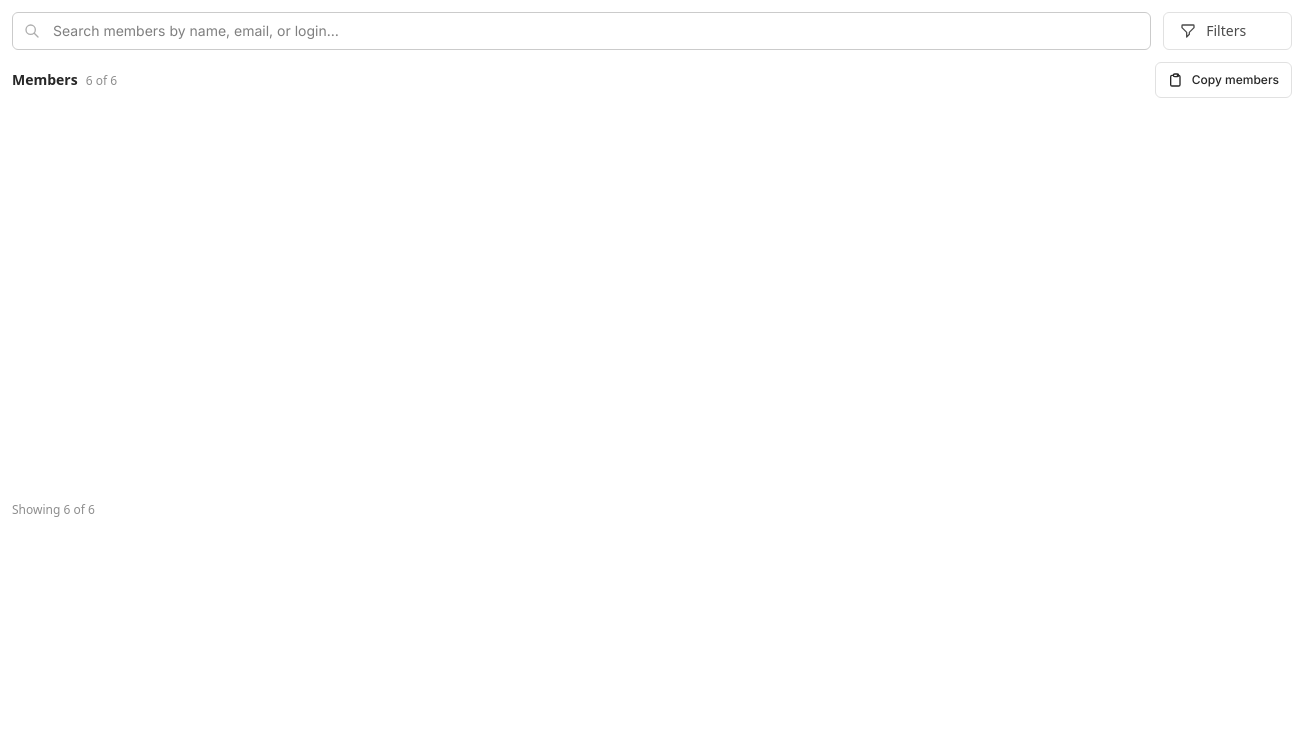
Test case: MemberExplorer filtering › removes one filter from its chip and leaves the others applied
Click the button "Filters": click(1228, 31) x1=1163 y1=12 x2=1292 y2=50
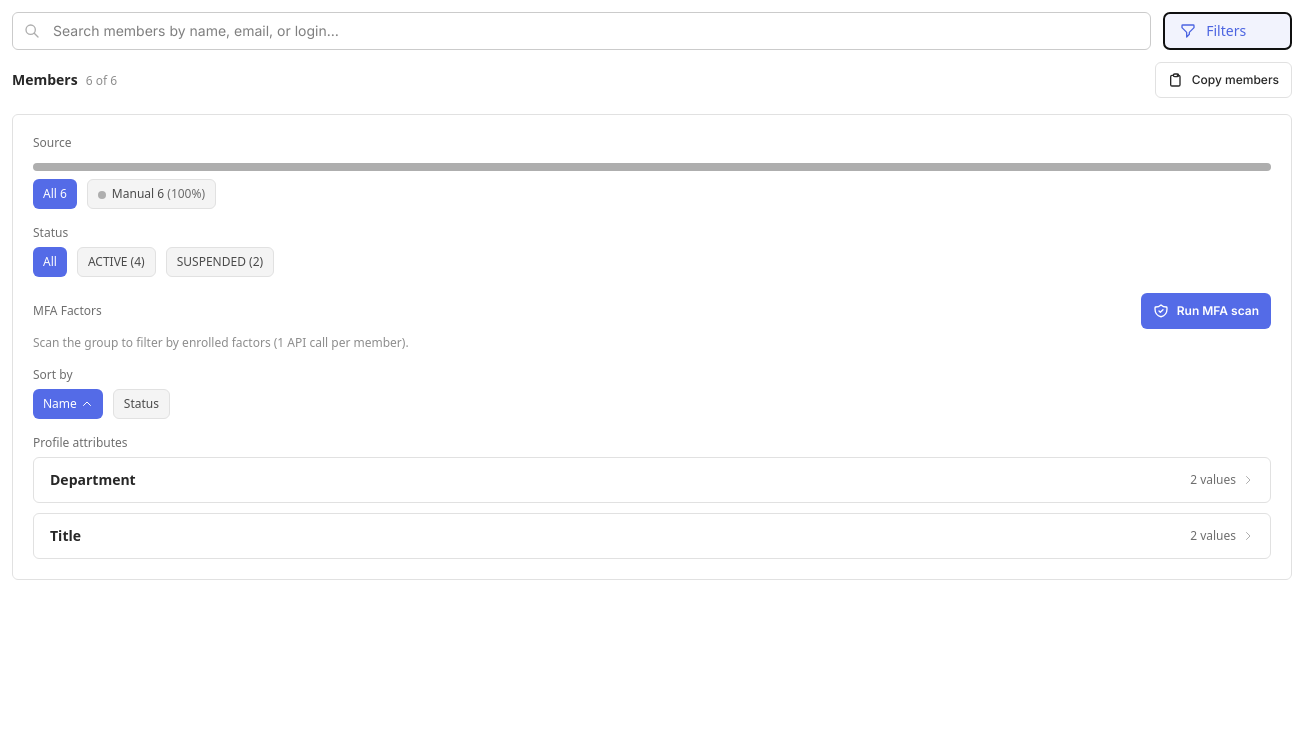
Click the button "Manual 6 (100%)": click(152, 194) x1=87 y1=179 x2=216 y2=209
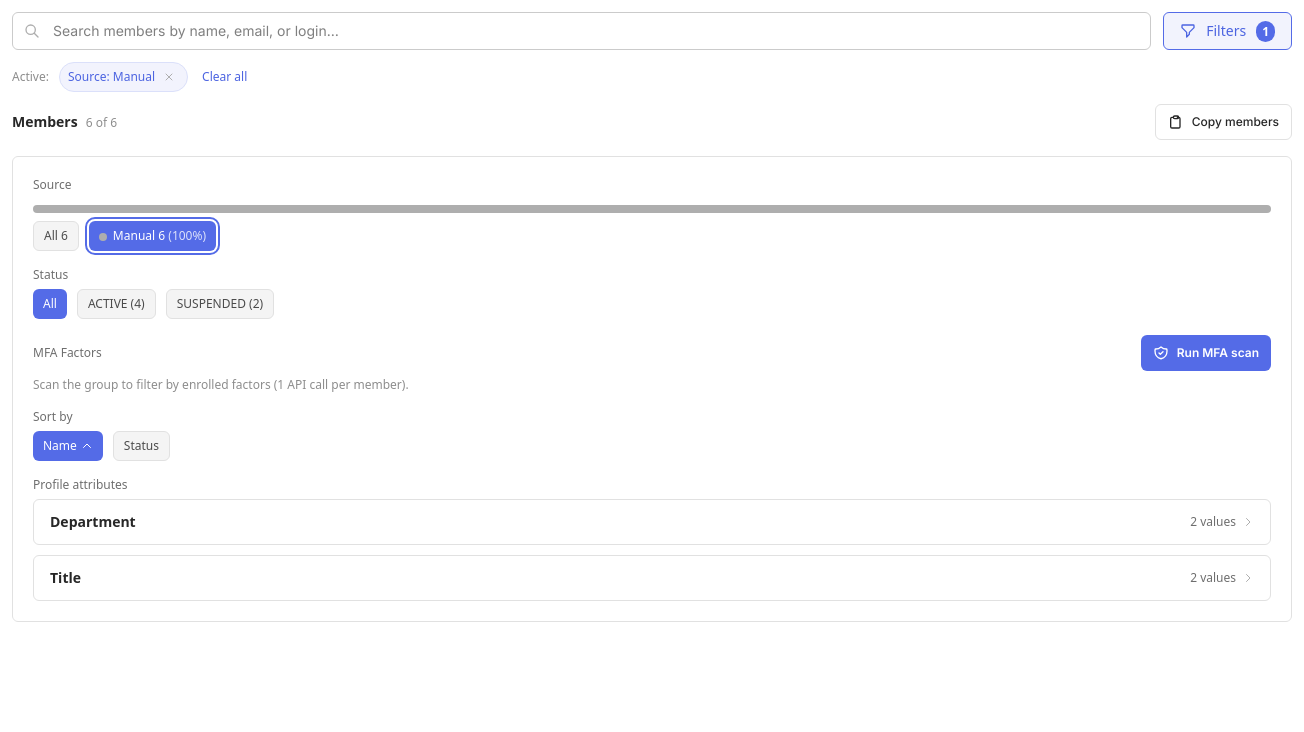
Click the button "SUSPENDED (2)": click(220, 304) x1=166 y1=289 x2=274 y2=319
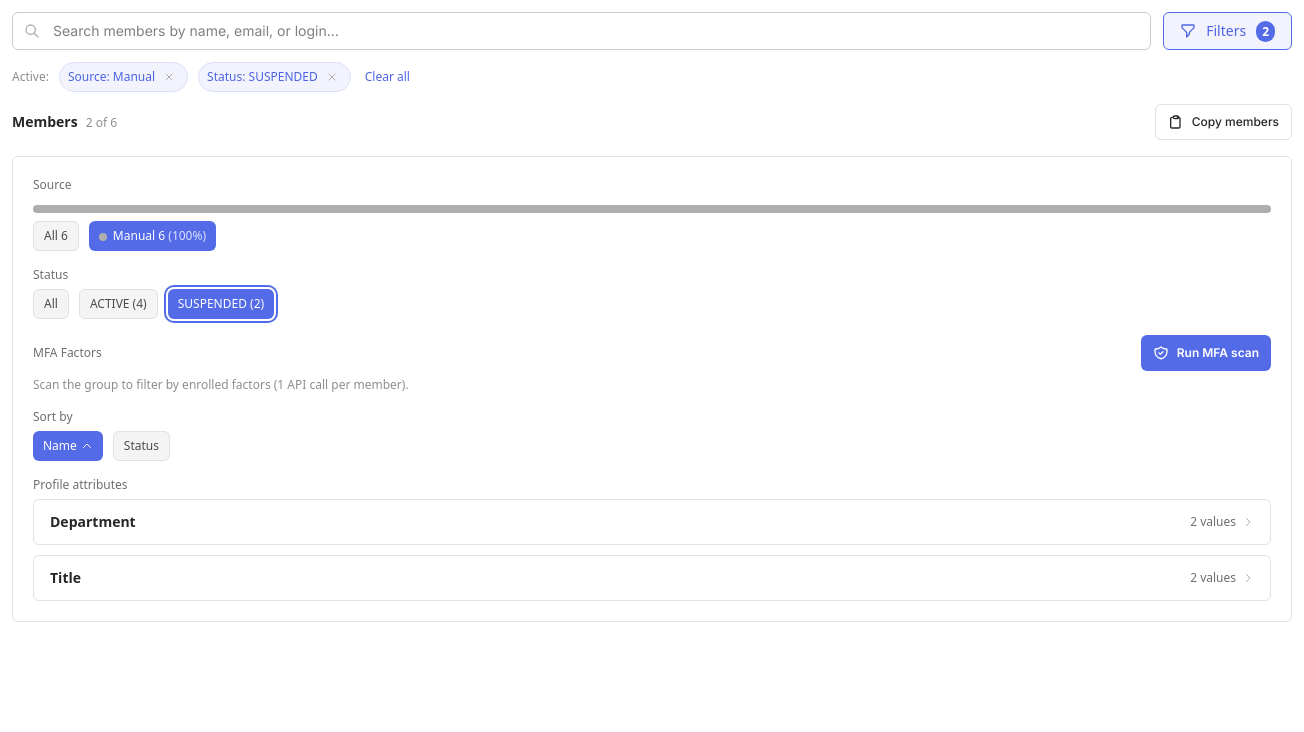
Result: the text "2 of 6" is shown at x1=86 y1=114 x2=117 y2=131
Click the button named "Remove Status: SUSPENDED filter": click(332, 77) x1=322 y1=67 x2=342 y2=87
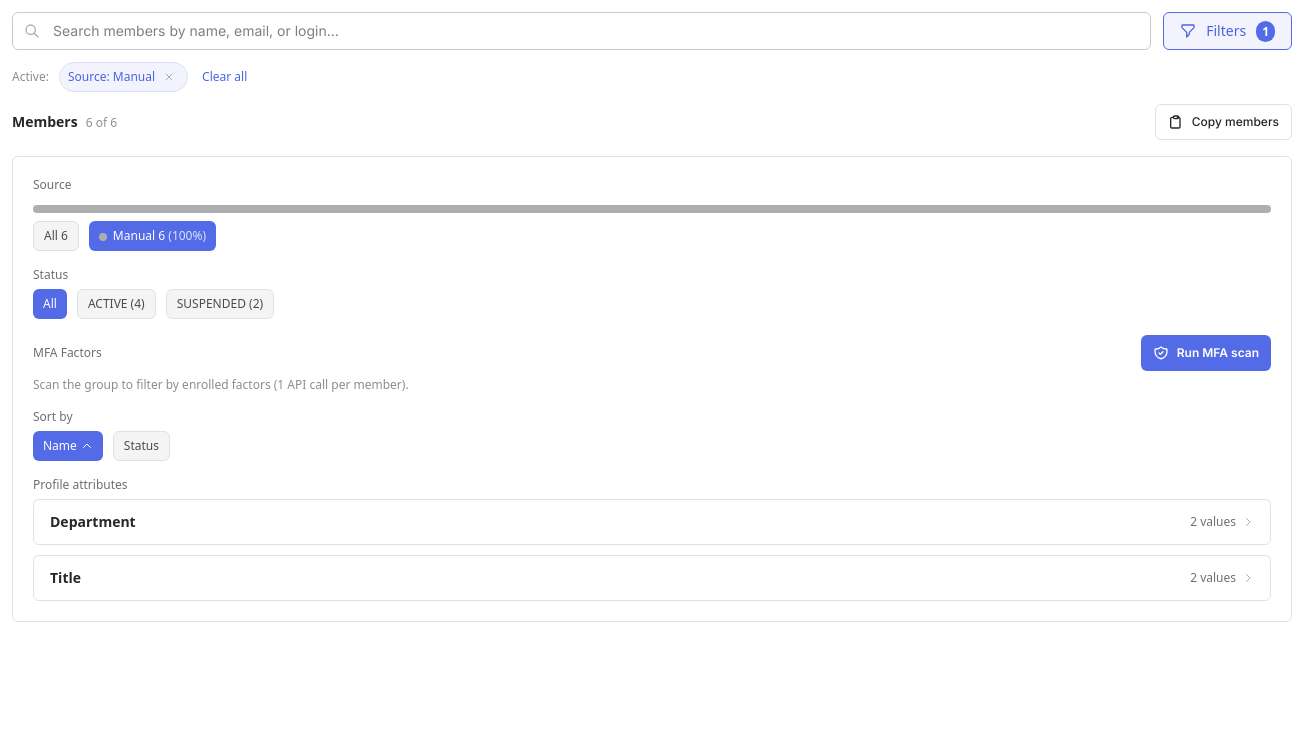
Result: the text "Source: Manual" is shown at x1=59 y1=62 x2=188 y2=92
Result: the text "6 of 6" is shown at x1=86 y1=114 x2=117 y2=131
Result: the text "Status: SUSPENDED" is gone
